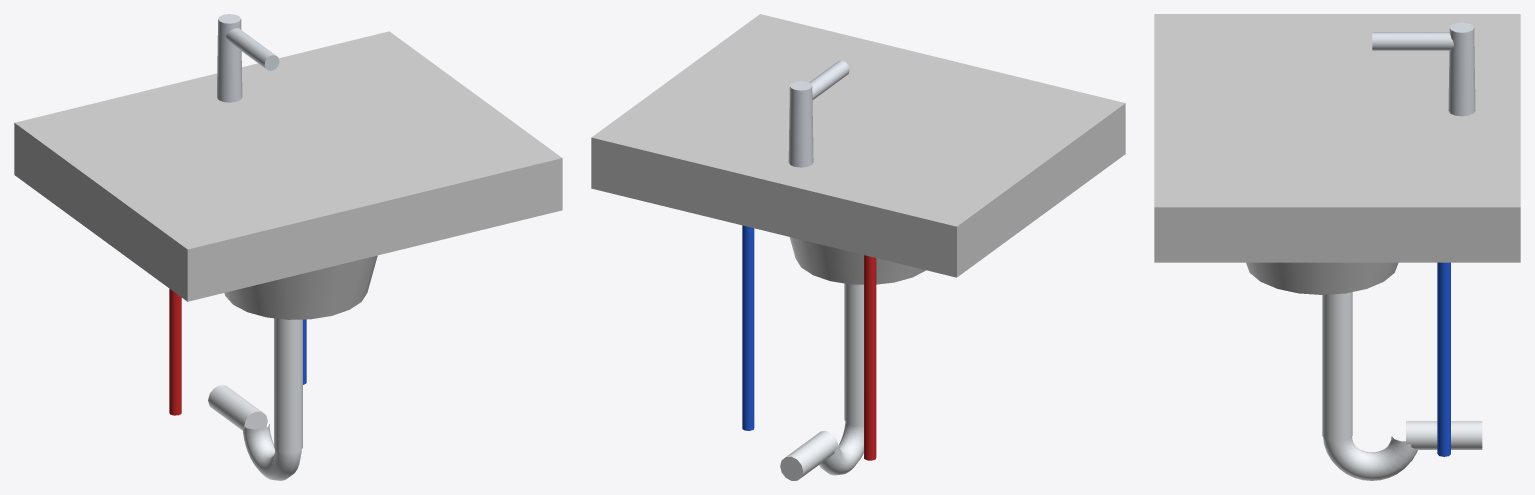
Rendered from fixture-lavatory.glb.
3 renders of one model, left to right at view 1: azimuth 30°, elevation 25°; view 2: azimuth 150°, elevation 25°; view 3: azimuth 270°, elevation 25°, orthographic. The views are drawn at different scales.
Visible parts, largest first — view 1: plumbing-fixture-lavatory; view 2: plumbing-fixture-lavatory; view 3: plumbing-fixture-lavatory.
Boxes of the visible parts, box(x1,y1,x2,y2) form: plumbing-fixture-lavatory: box(14, 14, 562, 480); plumbing-fixture-lavatory: box(591, 14, 1125, 480); plumbing-fixture-lavatory: box(1154, 14, 1520, 480).
Size of the model in its own units: 0.6 by 0.654 by 0.48.
